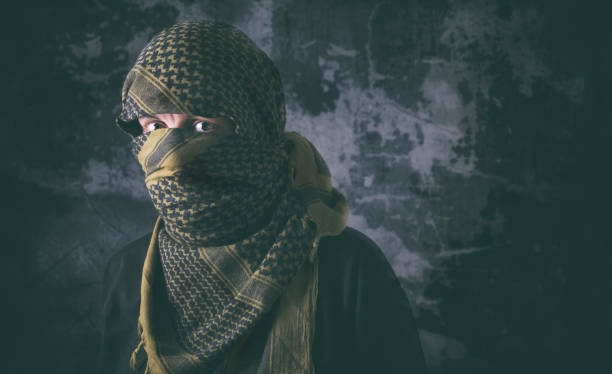terrorist: (89, 15, 394, 303)
